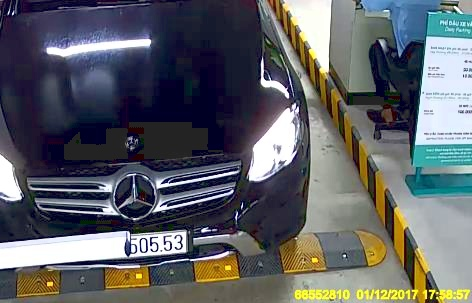plate: (92, 229, 196, 262)
